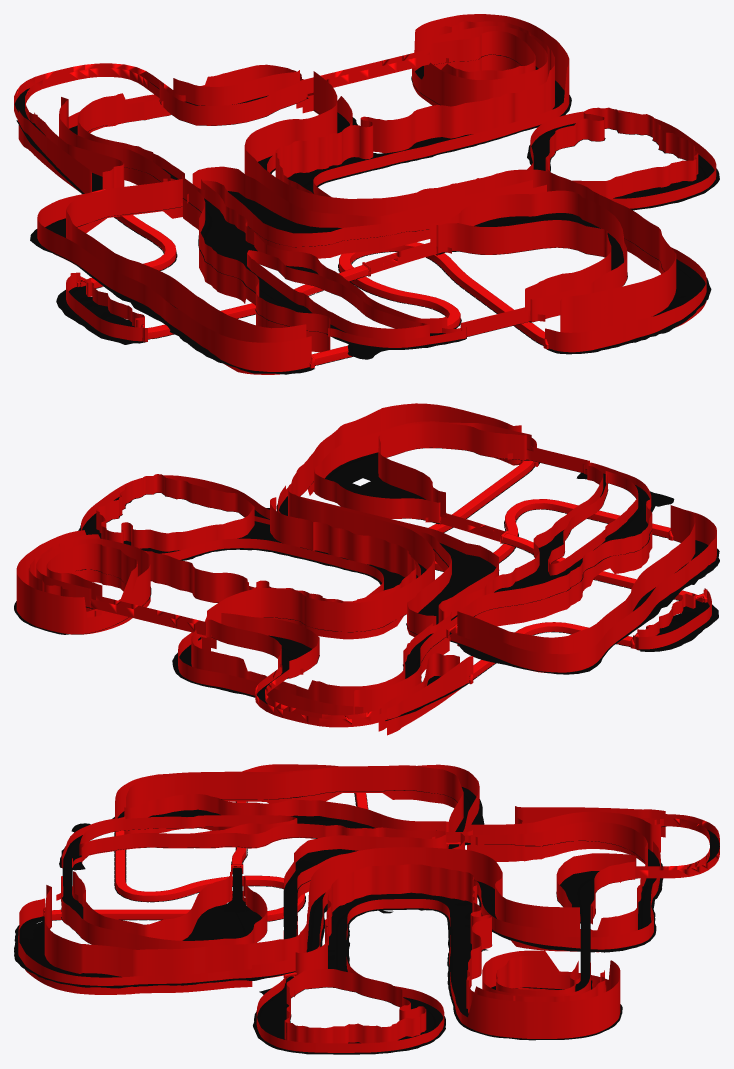
Rendered from colmesh.fbx.
The picture shows the model from 3 angles, top to bottom: view 1: azimuth 30°, elevation 25°; view 2: azimuth 150°, elevation 25°; view 3: azimuth 270°, elevation 25°; orthographic projection. The views are drawn at different scales.
Parts seen in each view (by area): view 1: Mesh, Mesh (3), Mesh (2); view 2: Mesh, Mesh (3), Mesh (2); view 3: Mesh, Mesh (3), Mesh (2).
Boxes of the visible parts, x1,y1,x2,y2 form: Mesh: (14, 14, 716, 374); Mesh (3): (16, 54, 719, 374); Mesh (2): (14, 66, 713, 351); Mesh: (16, 403, 716, 735); Mesh (3): (14, 447, 719, 720); Mesh (2): (82, 454, 711, 705); Mesh: (18, 764, 719, 1052); Mesh (3): (14, 787, 666, 1054); Mesh (2): (19, 788, 719, 1033).
Bounding box in the file's own units: 50304 × 3968 × 53385.
